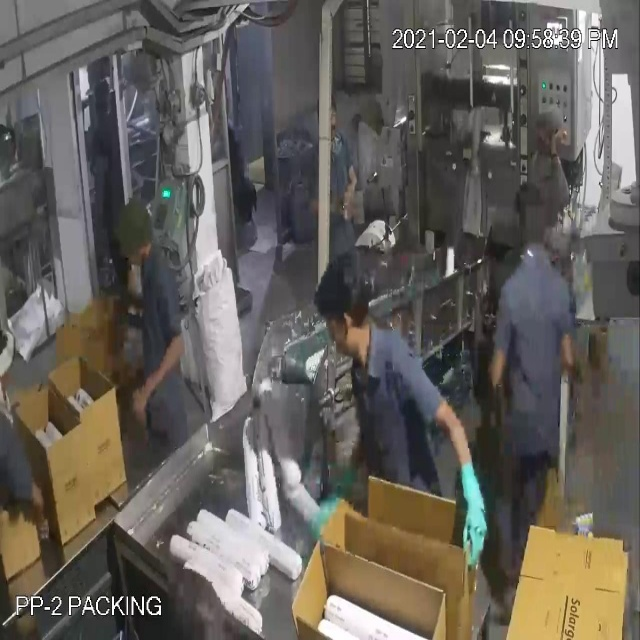Guantes: (418, 380, 493, 576), (304, 467, 378, 548)
Sin_guantes: (125, 330, 188, 431), (10, 441, 54, 556), (337, 156, 358, 231)
